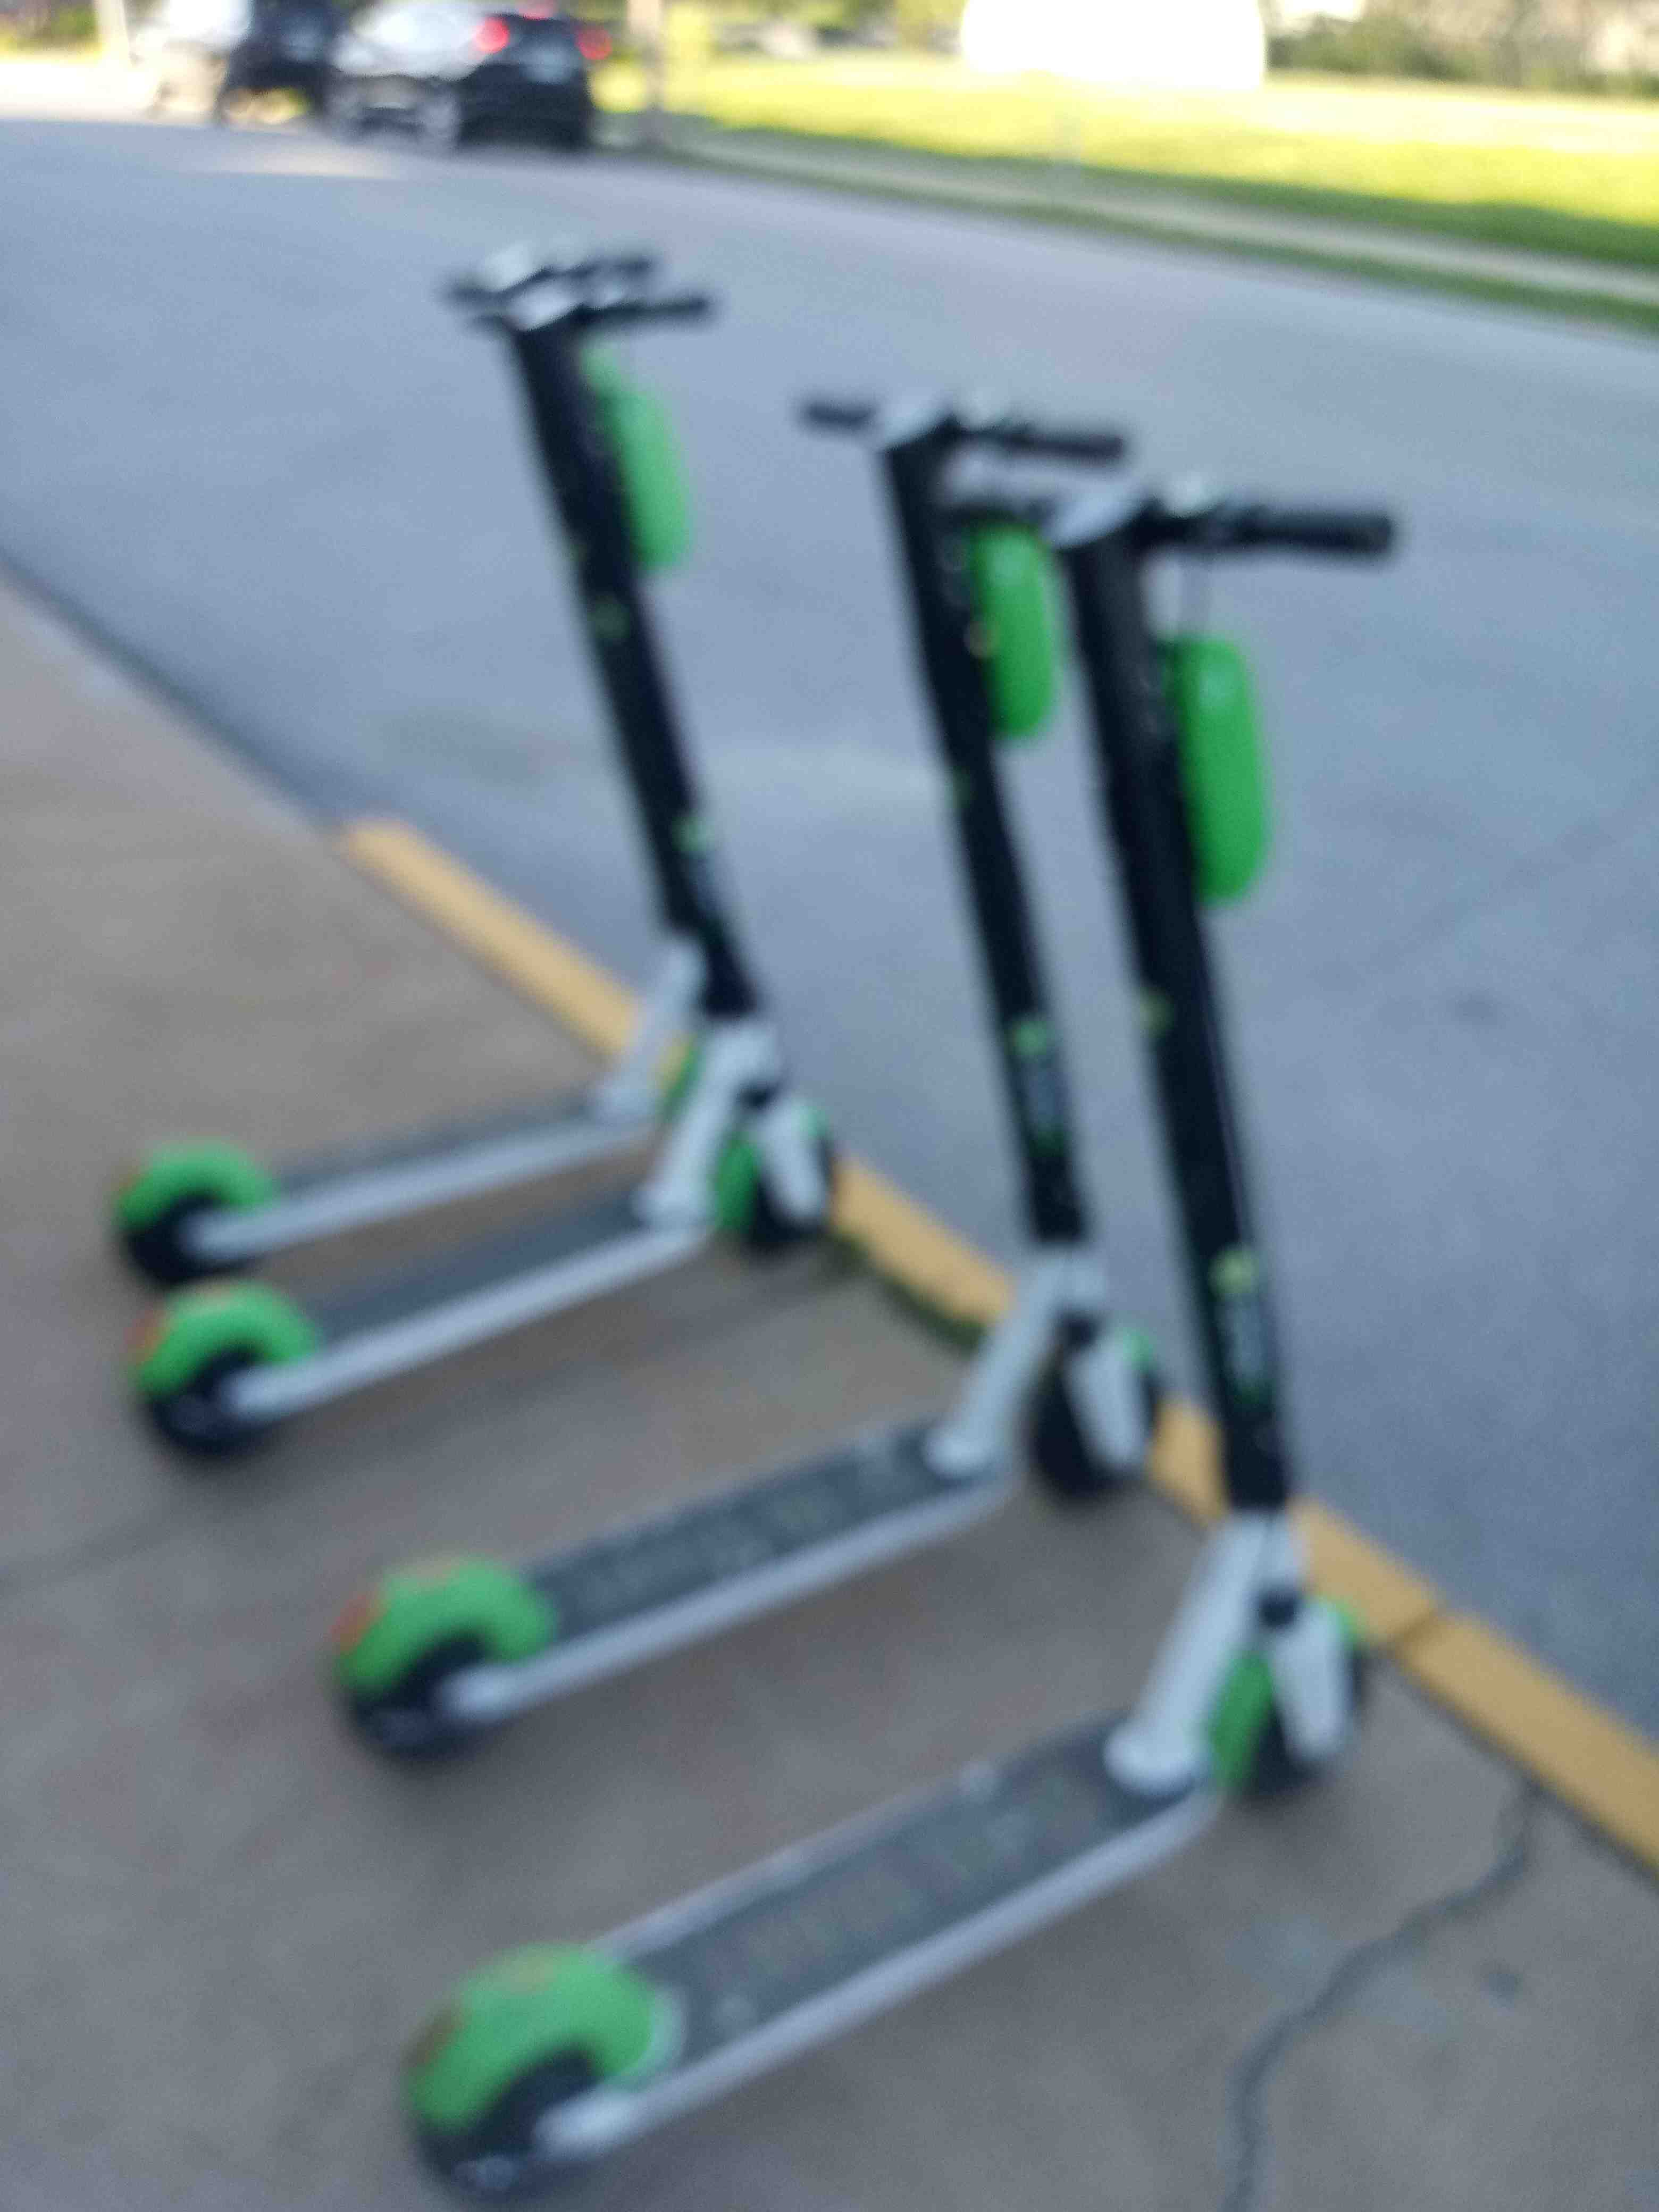too close: (925, 1256, 1197, 1534), (657, 1075, 955, 1301)
